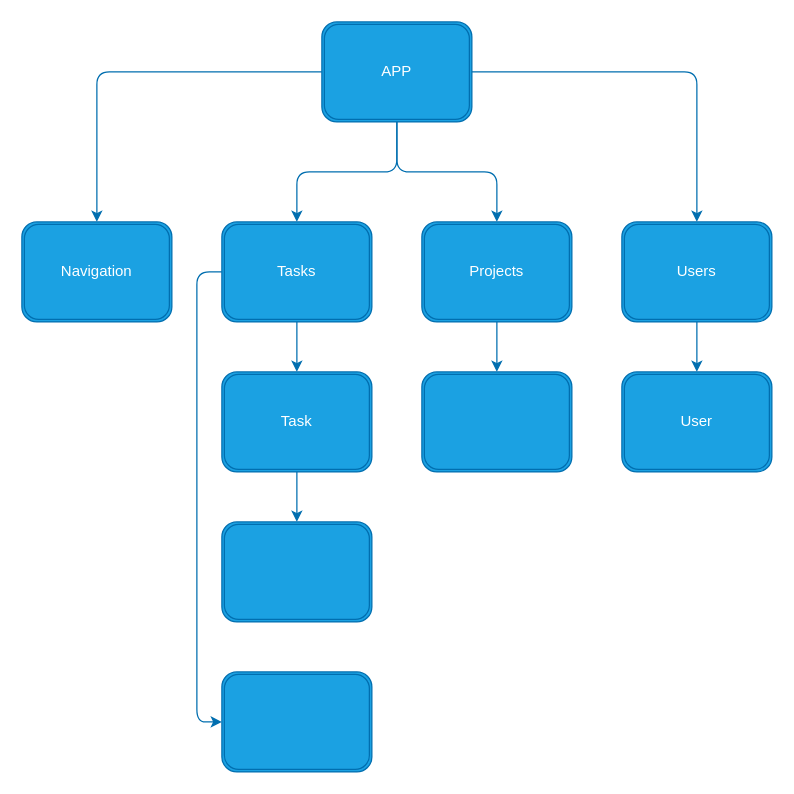
Some shapes in this 794 by 794 pixel diagram are drawn without their labels. The box of each missing label's shape, as (x1, y1, x2, y2) in pixels:
Project: (421, 371, 572, 472)
Task Settings: (221, 671, 372, 772)
Time Entry: (221, 521, 372, 622)
